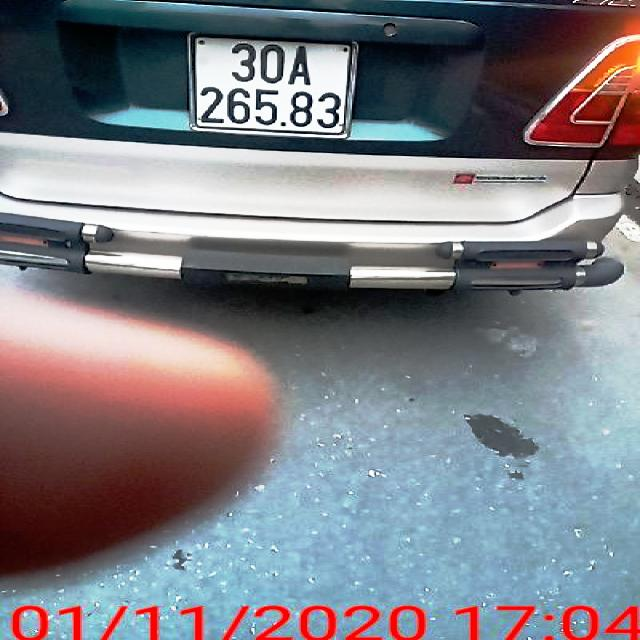license_plate: (198, 38, 355, 137)
